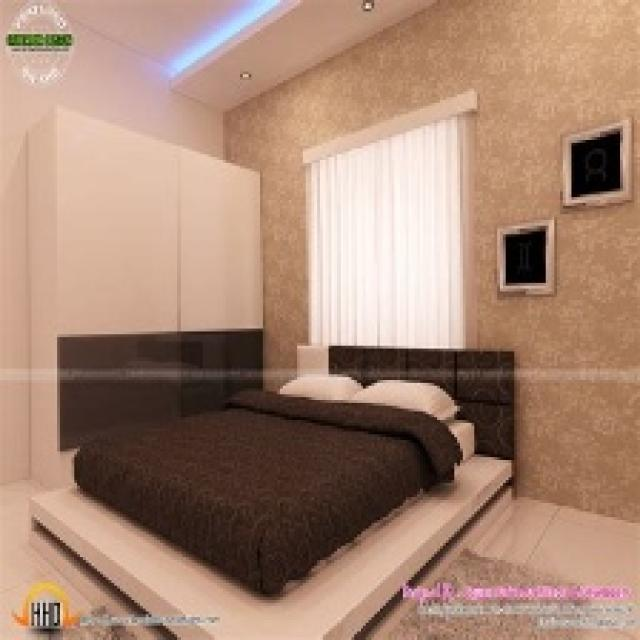Bed: (29, 340, 514, 637)
